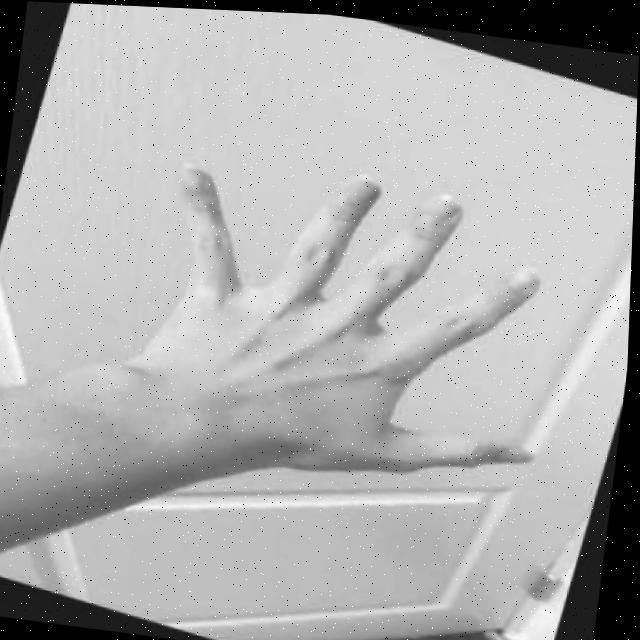no-gloves: (142, 142, 570, 523)
